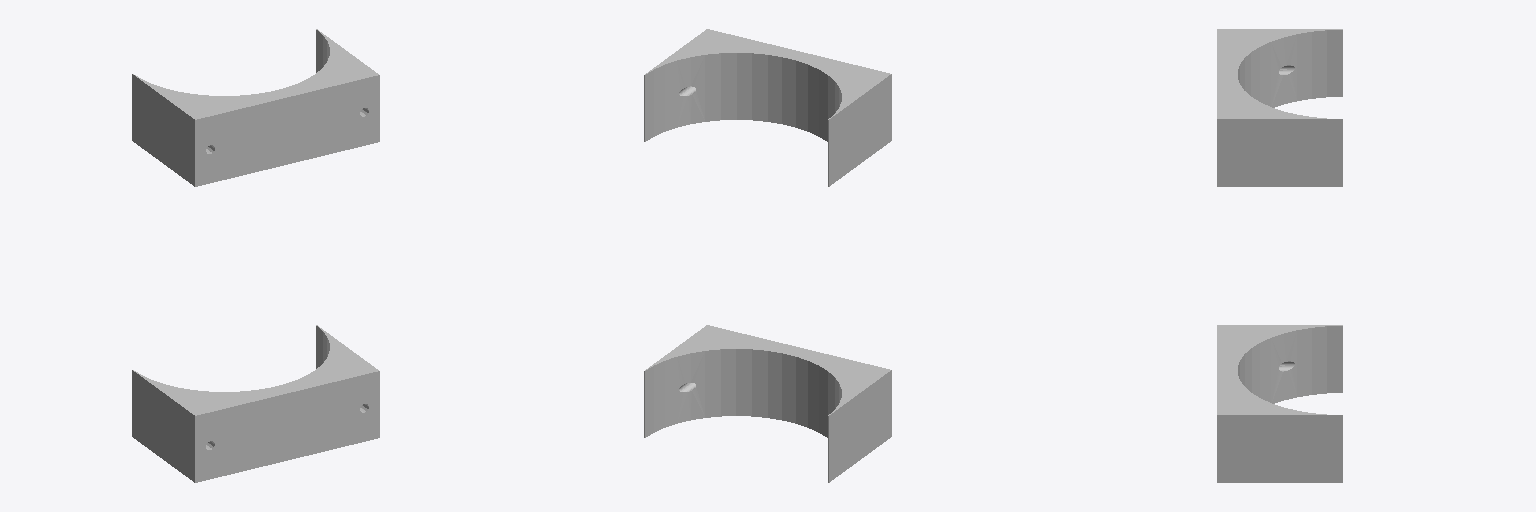
File: 4-hull-support_visual_4-hull-support.obj
3 views of the same model, side by side, from view 1: azimuth 30°, elevation 25°; view 2: azimuth 150°, elevation 25°; view 3: azimuth 270°, elevation 25° (orthographic).
Parts seen in each view (by area): view 1: 4-hull-support_visual_4-hull-support; view 2: 4-hull-support_visual_4-hull-support; view 3: 4-hull-support_visual_4-hull-support.
Part boxes in pixels (x1,y1,x2,y2): 4-hull-support_visual_4-hull-support: (132, 29, 379, 482); 4-hull-support_visual_4-hull-support: (644, 29, 891, 482); 4-hull-support_visual_4-hull-support: (1217, 29, 1342, 482).
Bounding box in the file's own units: 0.115 × 0.2163 × 0.0681.